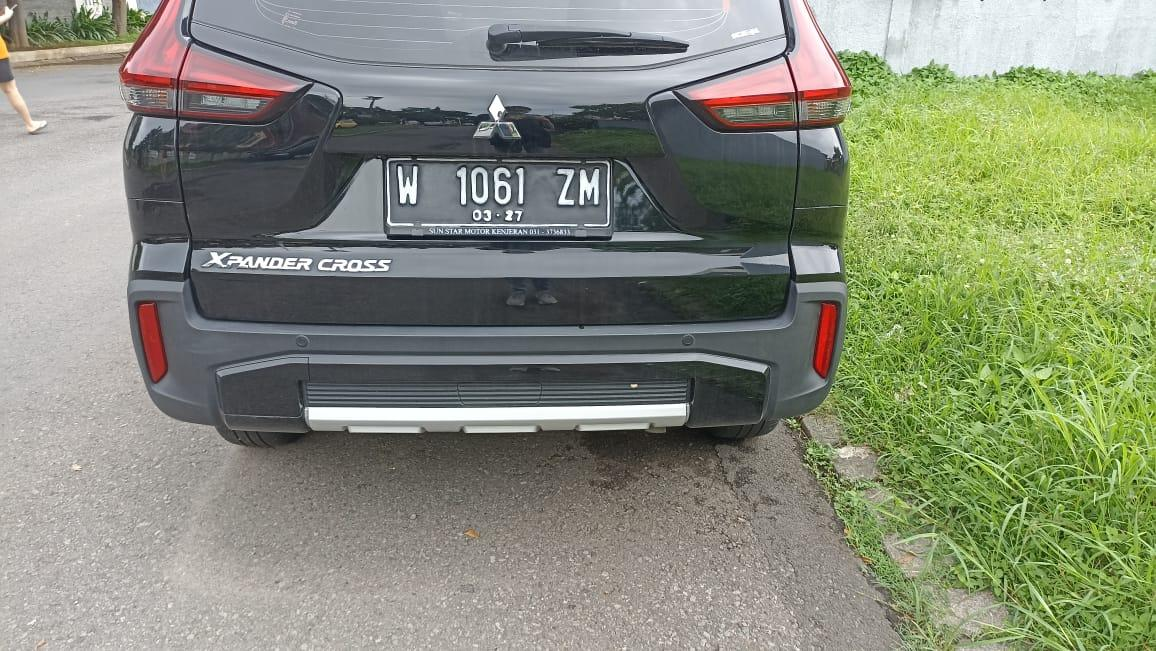plat: (386, 160, 612, 237)
